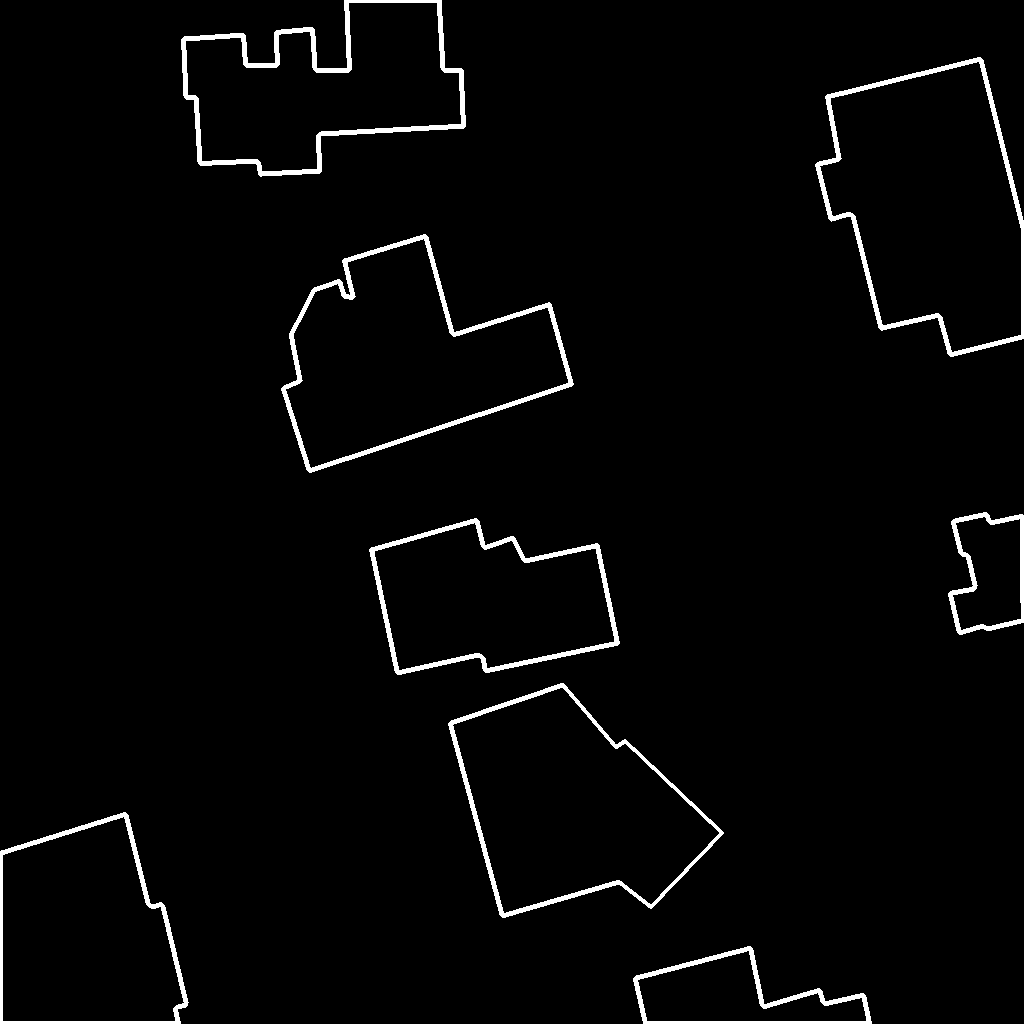building: (283, 236, 573, 472), (450, 685, 723, 917), (817, 59, 1024, 356), (183, 0, 465, 175), (0, 814, 187, 1024), (371, 520, 619, 674), (635, 948, 871, 1024), (950, 514, 1024, 634)
